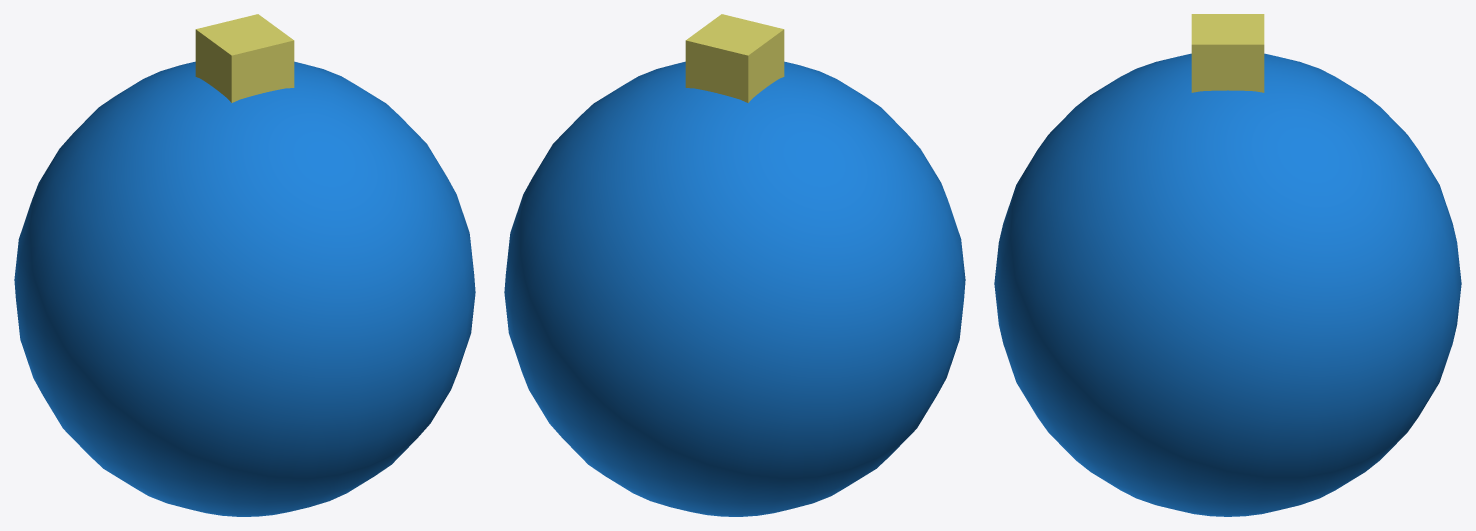
Rendered from websitedemo2.glb.
3 views of the same model, side by side, from view 1: azimuth 30°, elevation 25°; view 2: azimuth 150°, elevation 25°; view 3: azimuth 270°, elevation 25° (orthographic).
Visible parts, largest first — view 1: Sphere; view 2: Sphere; view 3: Sphere.
Part boxes in pixels (x1,y1,x2,y2): Sphere: [14, 14, 475, 516]; Sphere: [504, 14, 965, 516]; Sphere: [994, 14, 1461, 516].
Bounding box in the file's own units: 3.35 × 3.68 × 3.35.
